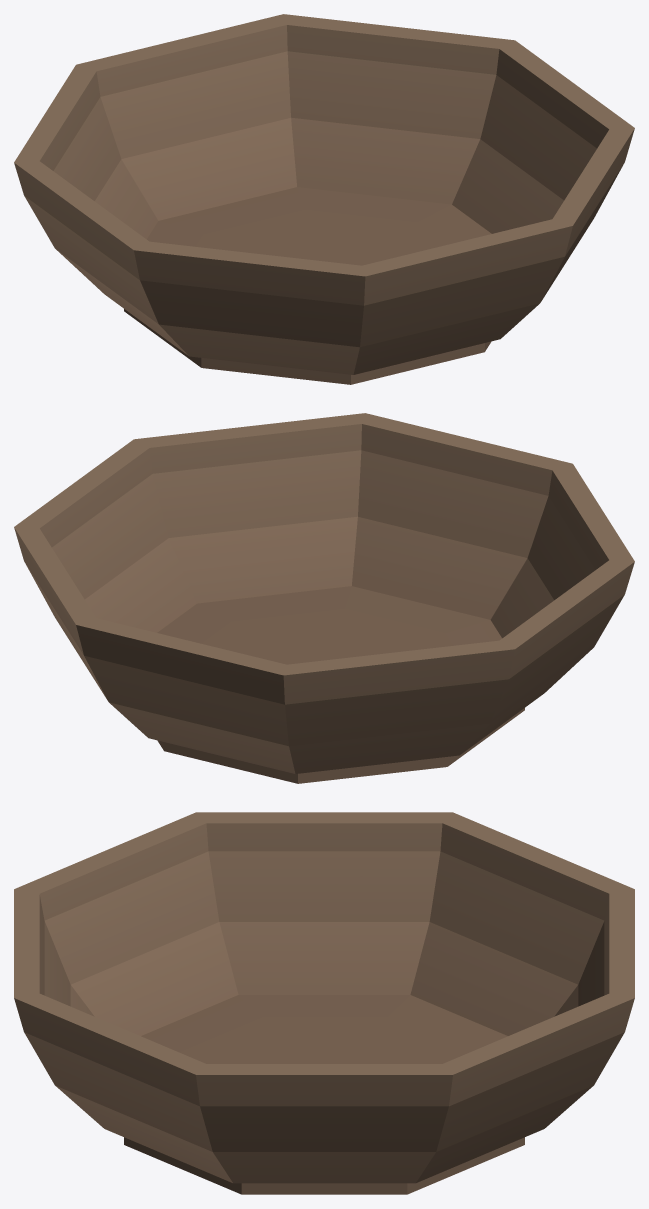
Rendered from Plate6_C5.fbx.
3 views of the same model, one above another, from view 1: azimuth 30°, elevation 25°; view 2: azimuth 150°, elevation 25°; view 3: azimuth 270°, elevation 25° (orthographic). The views are drawn at different scales.
Visible parts, largest first — view 1: Plate6_C5; view 2: Plate6_C5; view 3: Plate6_C5.
Part boxes in pixels (x1,y1,x2,y2): Plate6_C5: (14,14,634,384); Plate6_C5: (14,413,634,783); Plate6_C5: (14,812,634,1194).
Bounding box in the file's own units: 33.84 × 10 × 33.84.
